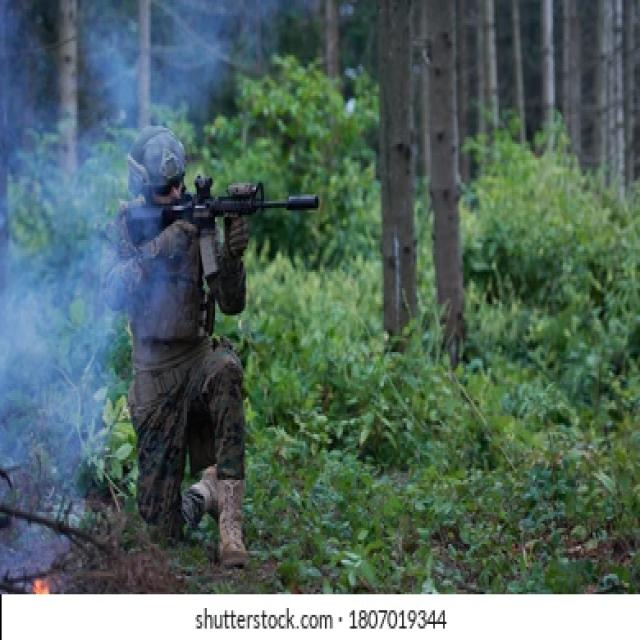soldier: (111, 132, 320, 572)
